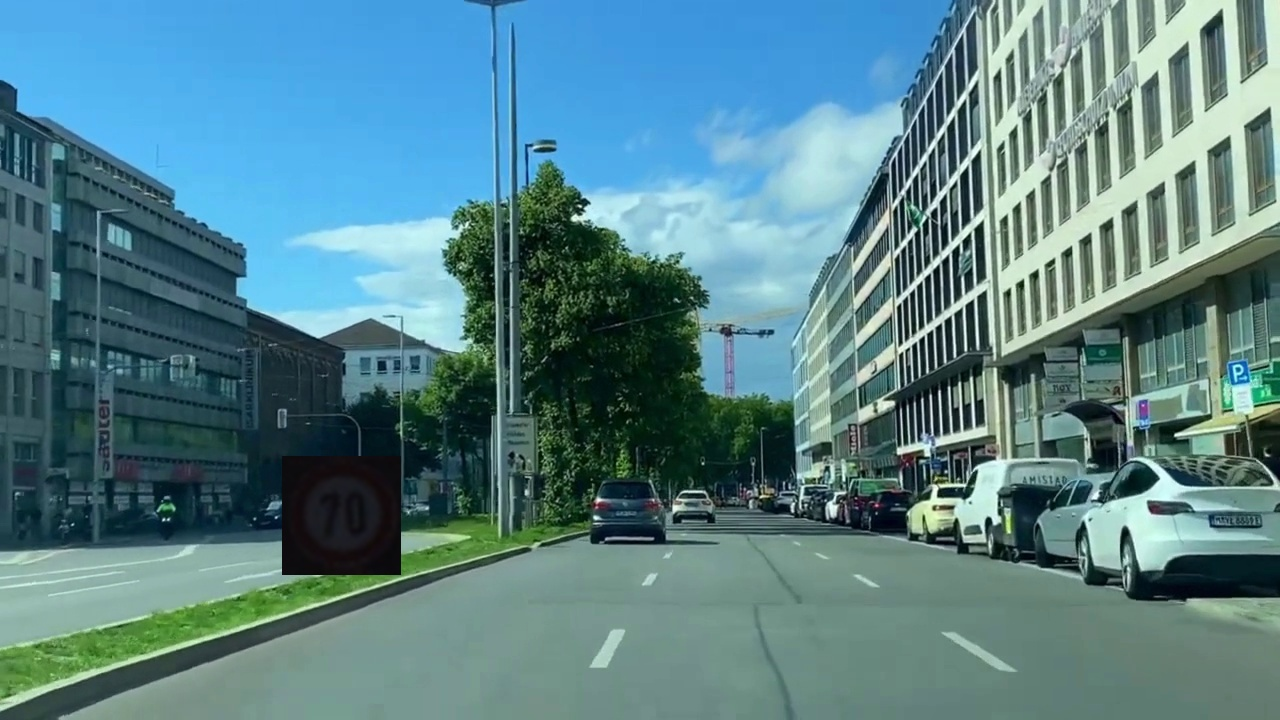Speed 70: (282, 456, 401, 575)
